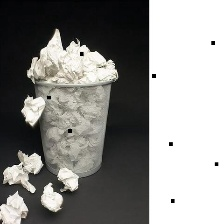tissue: (21, 24, 122, 87), (0, 157, 37, 195), (16, 91, 49, 130), (0, 186, 31, 224), (35, 178, 67, 214), (15, 146, 47, 176), (53, 164, 82, 195)
